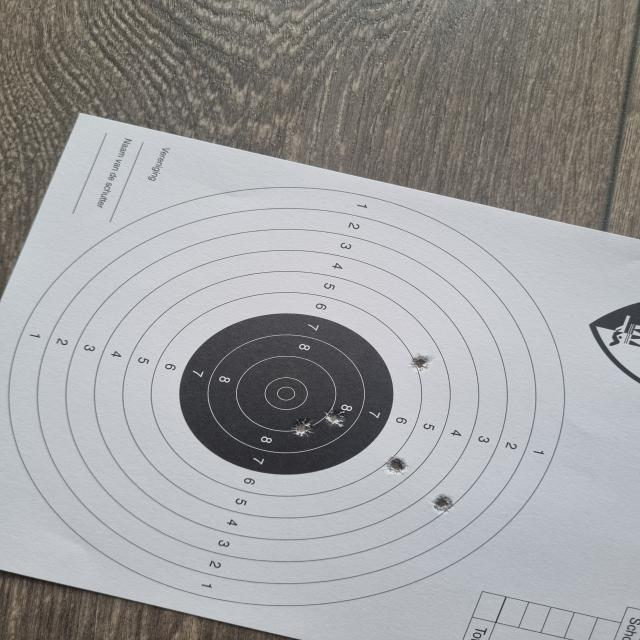3: (432, 494, 453, 513)
5: (386, 458, 406, 473)
6: (410, 356, 429, 371)
9: (291, 418, 314, 437), (324, 407, 345, 427)
Target: (12, 183, 567, 604)
black_contour: (180, 311, 394, 475)
